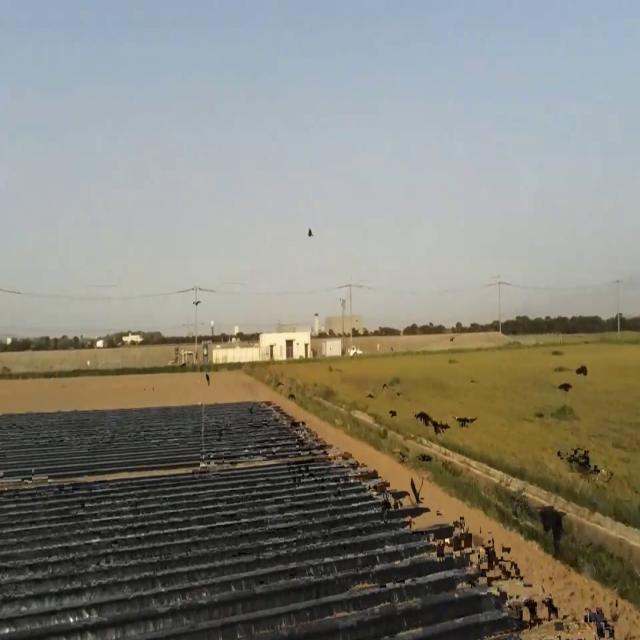bird: (457, 409, 476, 434), (411, 474, 424, 509), (559, 374, 572, 397), (382, 380, 388, 395), (308, 224, 312, 244)
